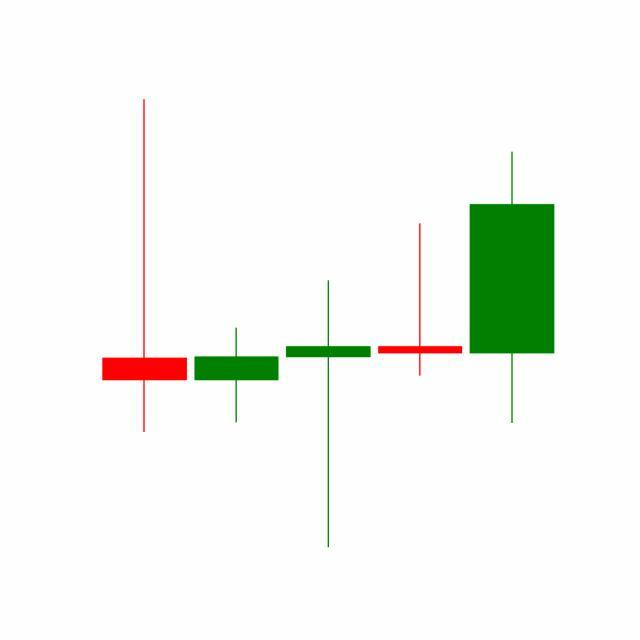Spinning Top: (374, 221, 468, 378)
